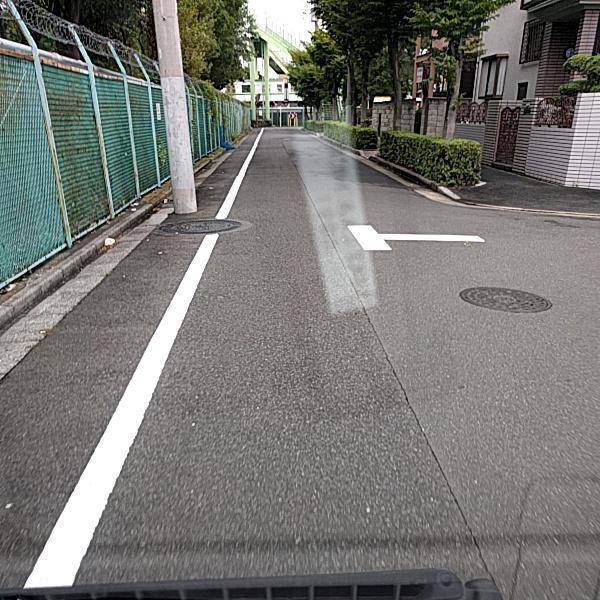D50: (459, 282, 552, 315), (159, 215, 243, 232)
